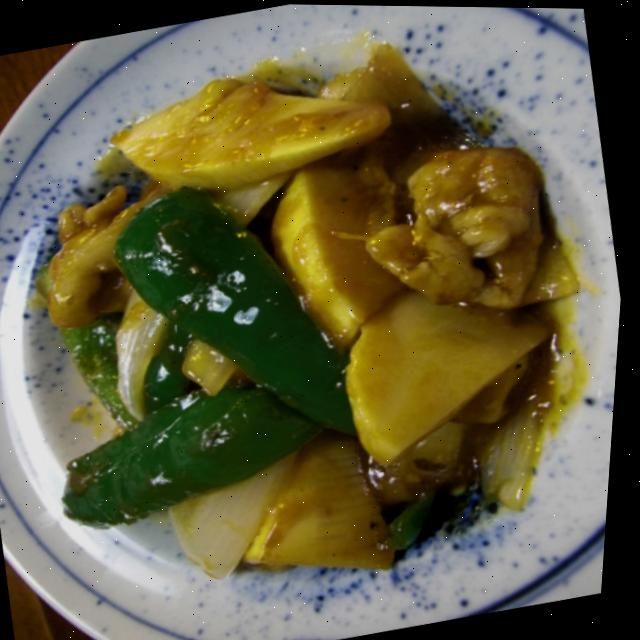猪肉菜式: (0, 2, 640, 632)
